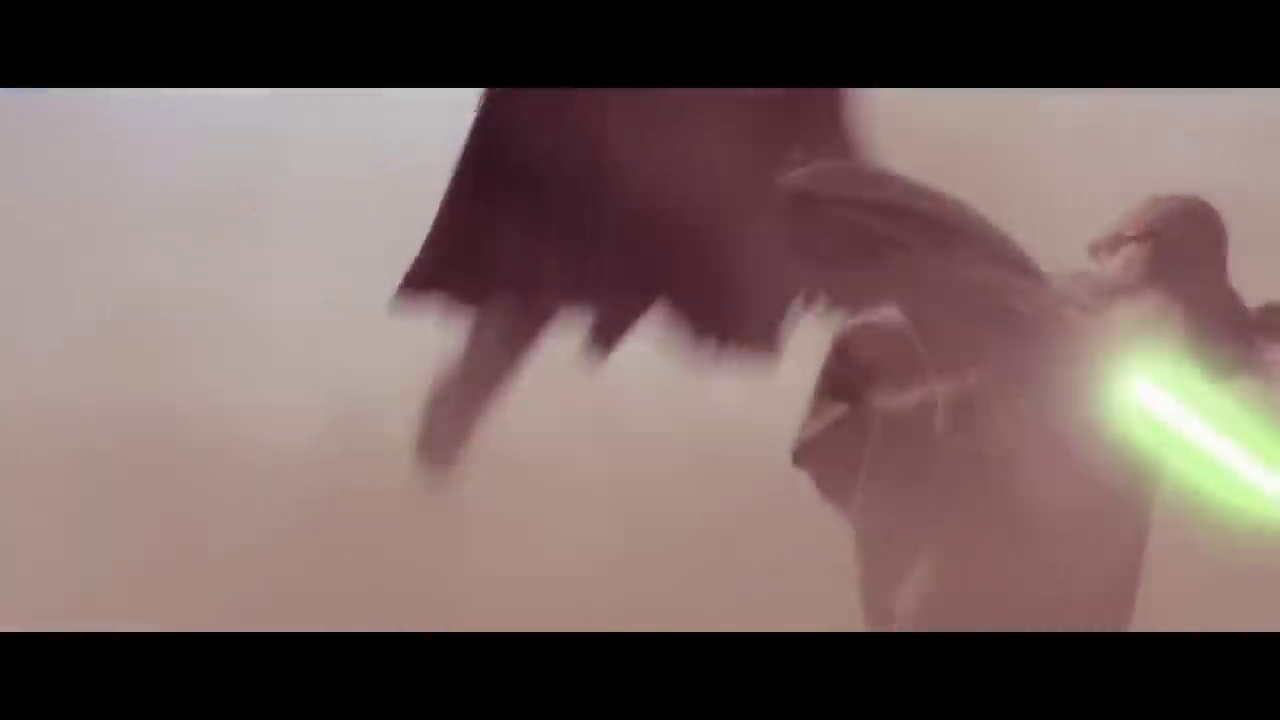lightsaber: (1091, 321, 1280, 524)
